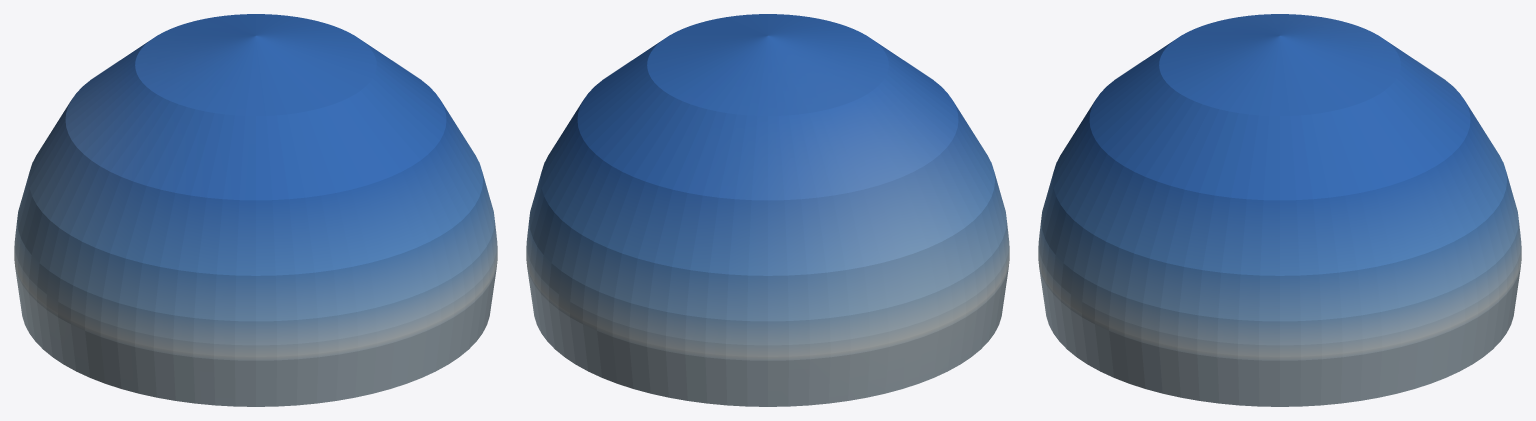
The model's file is SplashDeckHarbour.fbx.
The picture shows the model from 3 angles, left to right: view 1: azimuth 30°, elevation 25°; view 2: azimuth 150°, elevation 25°; view 3: azimuth 270°, elevation 25°; orthographic projection.
Parts seen in each view (by area): view 1: Sky; view 2: Sky; view 3: Sky.
Part boxes in pixels (bbox=[...]): Sky: bbox=[14, 14, 497, 406]; Sky: bbox=[526, 14, 1009, 406]; Sky: bbox=[1038, 14, 1521, 406].
Bounding box in the file's own units: 3600 × 2235 × 3600.
